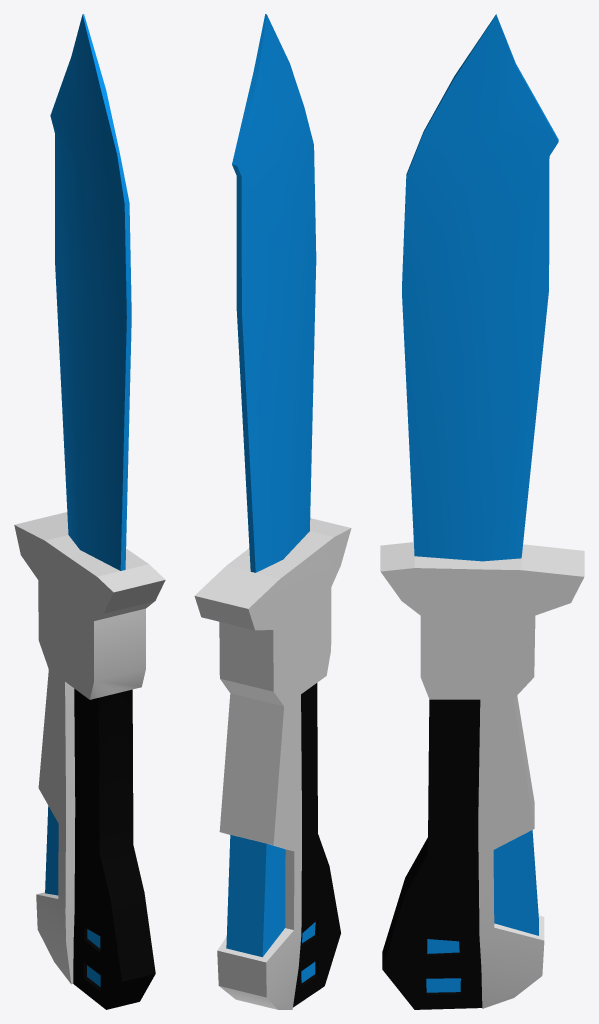
Rendered from Knife.fbx.
The picture shows the model from 3 angles, left to right: view 1: azimuth 30°, elevation 25°; view 2: azimuth 150°, elevation 25°; view 3: azimuth 270°, elevation 25°; orthographic projection. The views are drawn at different scales.
Visible parts, largest first — view 1: Knife; view 2: Knife; view 3: Knife.
Boxes of the visible parts, left/top/right/bottom form: Knife: left=14, top=14, right=165, bottom=1009; Knife: left=194, top=14, right=351, bottom=1009; Knife: left=380, top=14, right=584, bottom=1009.
Bounding box in the file's own units: 9.65 × 171 × 32.01.
